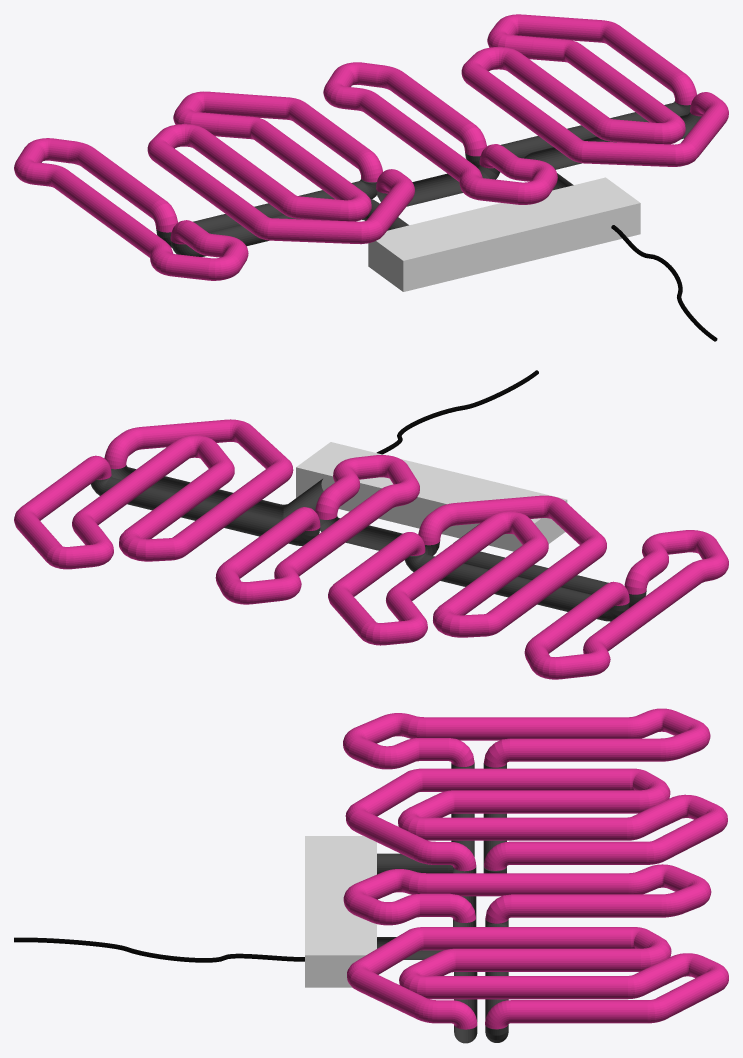
Rendered from neon.gltf.
3 renders of one model, top to bottom at view 1: azimuth 30°, elevation 25°; view 2: azimuth 150°, elevation 25°; view 3: azimuth 270°, elevation 25°, orthographic. The views are drawn at different scales.
Parts seen in each view (by area): view 1: TopTubes, BottomTubes; view 2: TopTubes, BottomTubes; view 3: TopTubes, BottomTubes.
Boxes of the visible parts, box(x1,y1,x2,y2) form: TopTubes: box(14, 14, 728, 280); BottomTubes: box(156, 101, 717, 341); TopTubes: box(14, 419, 728, 679); BottomTubes: box(90, 370, 646, 621); TopTubes: box(343, 708, 728, 1029); BottomTubes: box(14, 763, 508, 1043).
Size of the model in its own units: 30.6 by 2.66 by 30.66.
